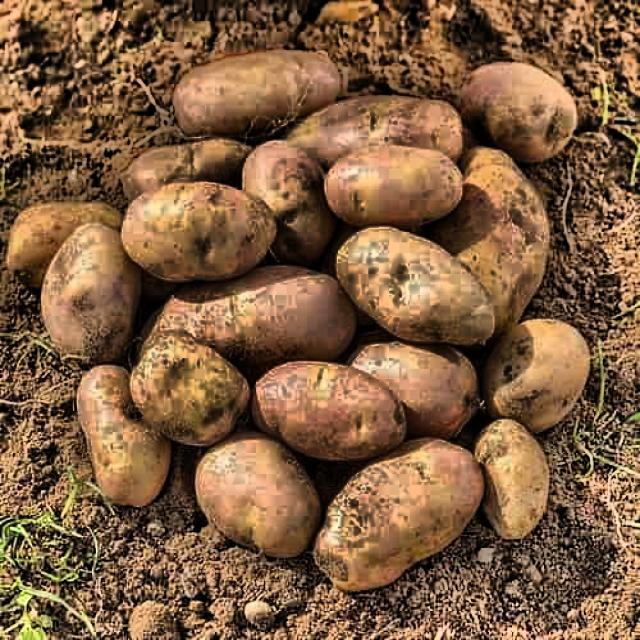potato: (24, 56, 581, 561)
